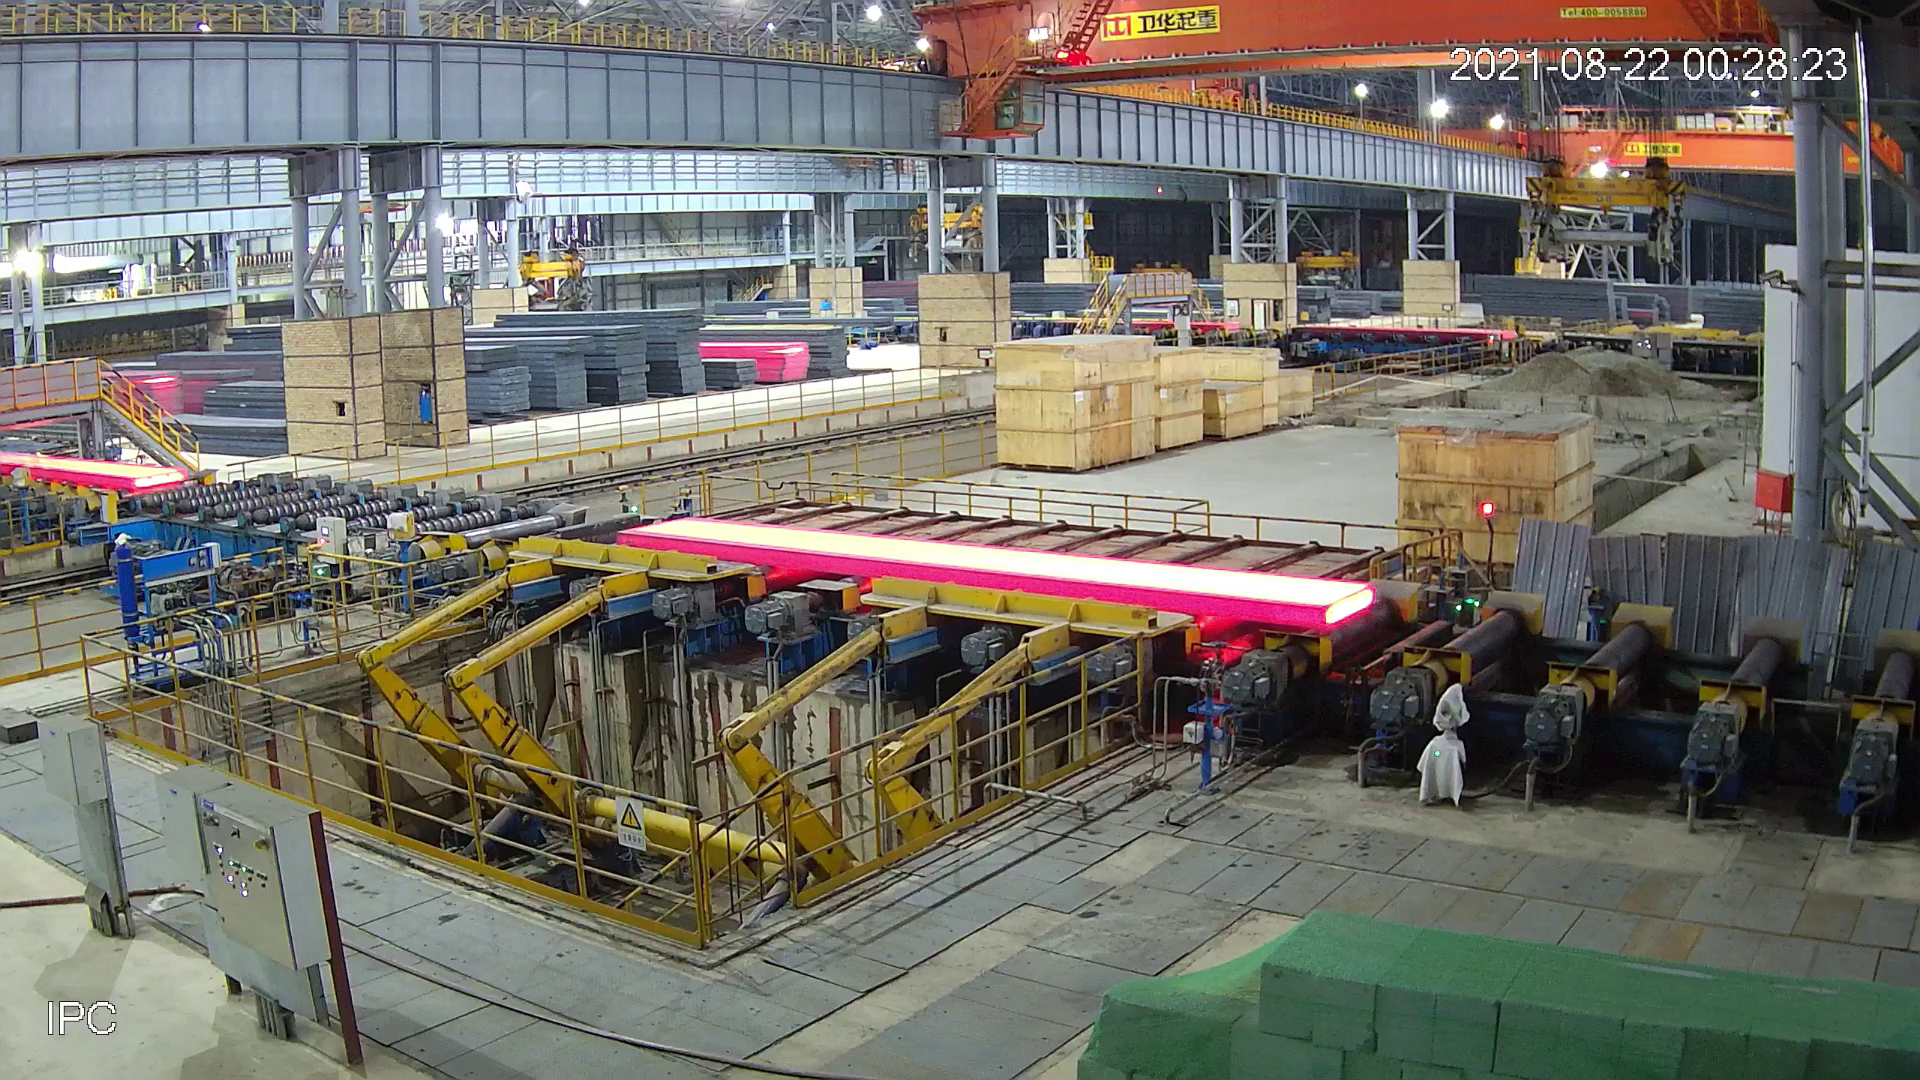slab: (615, 506, 1378, 640)
